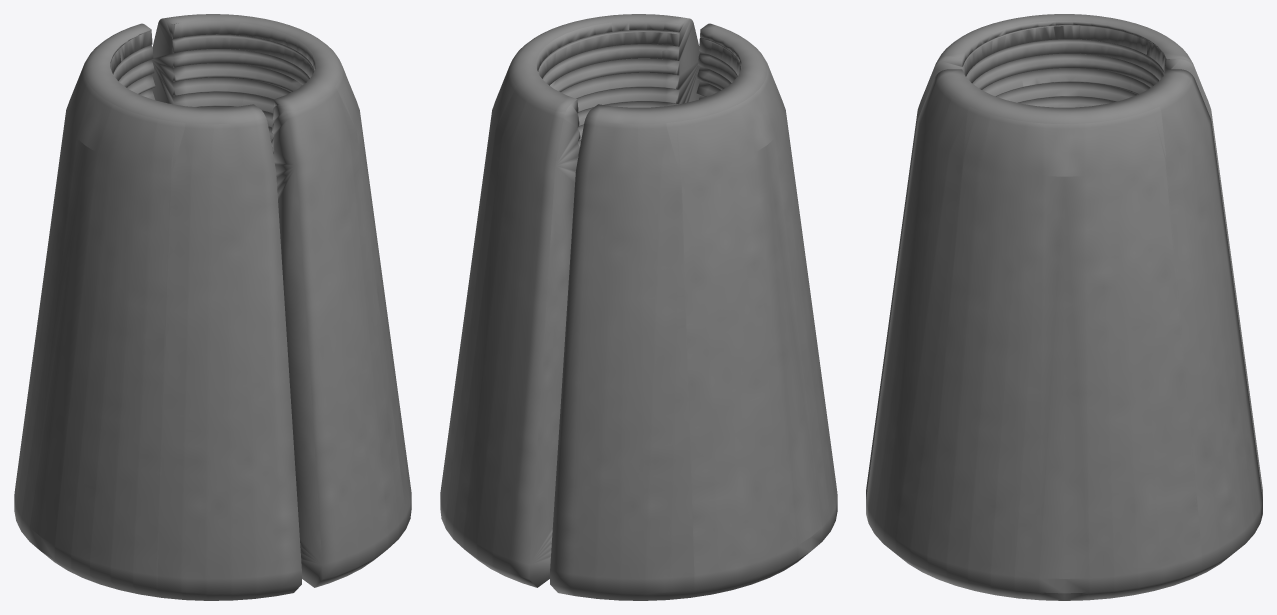
Rendered from cunha.glb.
The picture shows the model from 3 angles, left to right: view 1: azimuth 30°, elevation 25°; view 2: azimuth 150°, elevation 25°; view 3: azimuth 270°, elevation 25°; orthographic projection.
Parts seen in each view (by area): view 1: IfcBuildingElementProxy/Corte-extruso3[2], IfcBuildingElementProxy/Corte-extruso3[1]; view 2: IfcBuildingElementProxy/Corte-extruso3[2], IfcBuildingElementProxy/Corte-extruso3[1]; view 3: IfcBuildingElementProxy/Corte-extruso3[1], IfcBuildingElementProxy/Corte-extruso3[2].
Part boxes in pixels (x1=…): IfcBuildingElementProxy/Corte-extruso3[2]: x1=14, y1=23, x2=301, y2=600; IfcBuildingElementProxy/Corte-extruso3[1]: x1=152, y1=14, x2=411, y2=587; IfcBuildingElementProxy/Corte-extruso3[2]: x1=550, y1=23, x2=837, y2=600; IfcBuildingElementProxy/Corte-extruso3[1]: x1=440, y1=14, x2=700, y2=587; IfcBuildingElementProxy/Corte-extruso3[1]: x1=866, y1=69, x2=1262, y2=600; IfcBuildingElementProxy/Corte-extruso3[2]: x1=866, y1=14, x2=1262, y2=498.
Size of the model in its own units: 0.0251 by 0.032 by 0.0251.
Materials: 1 (1 with a texture image).
